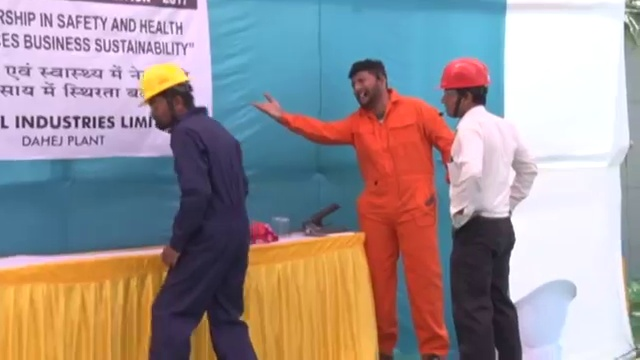helmet: (137, 62, 189, 108), (434, 57, 494, 92)
helmet_off: (346, 58, 395, 110)
helmet_on: (136, 62, 199, 130), (433, 57, 495, 123)
person: (254, 60, 455, 360), (135, 64, 260, 359), (432, 56, 540, 360)
